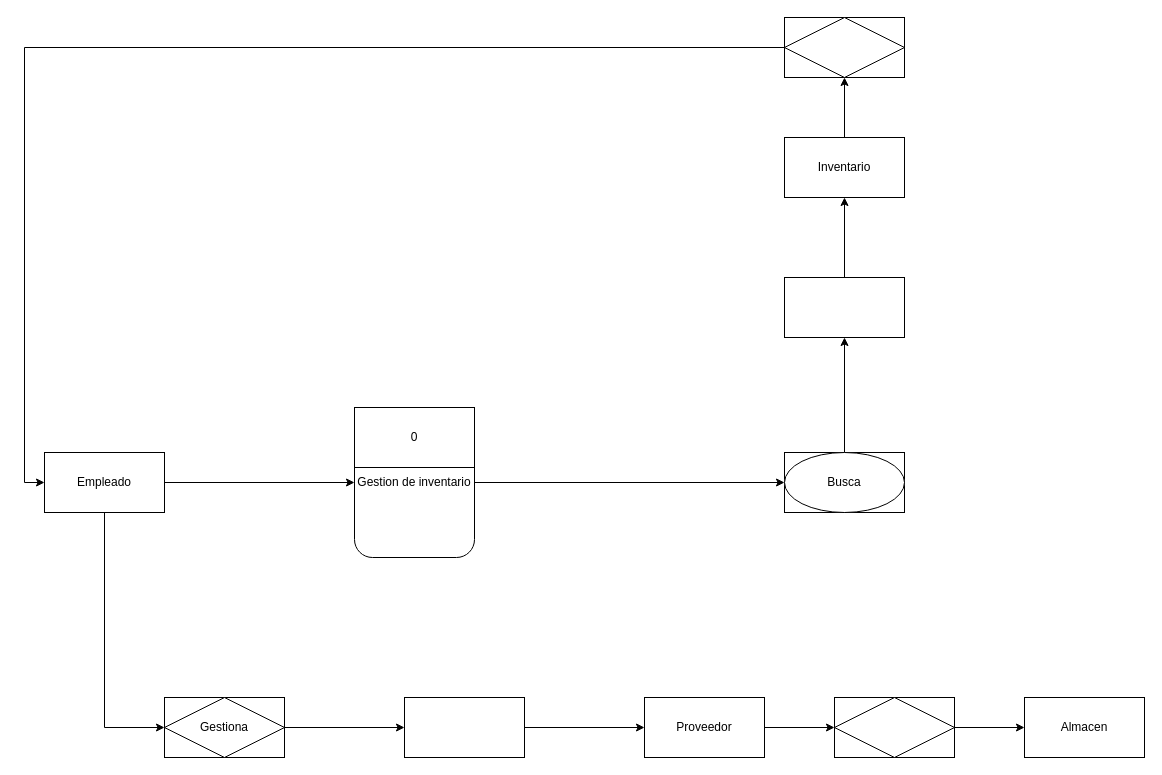
Some shapes in this 1162 by 775 pixel diagram are drawn without their labels. Each missing label, with the centre of its shape:
"Actualiza" belongs at [894,727].
"No se encunentra" belongs at [844,47].
"Orden de compra" belongs at [464,727].
"Producto" belongs at [844,307].
